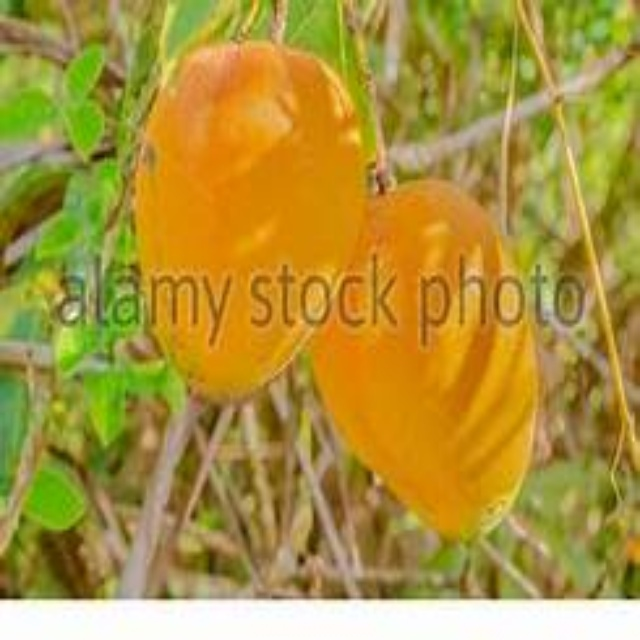mango: (138, 51, 371, 412), (323, 186, 530, 532)
